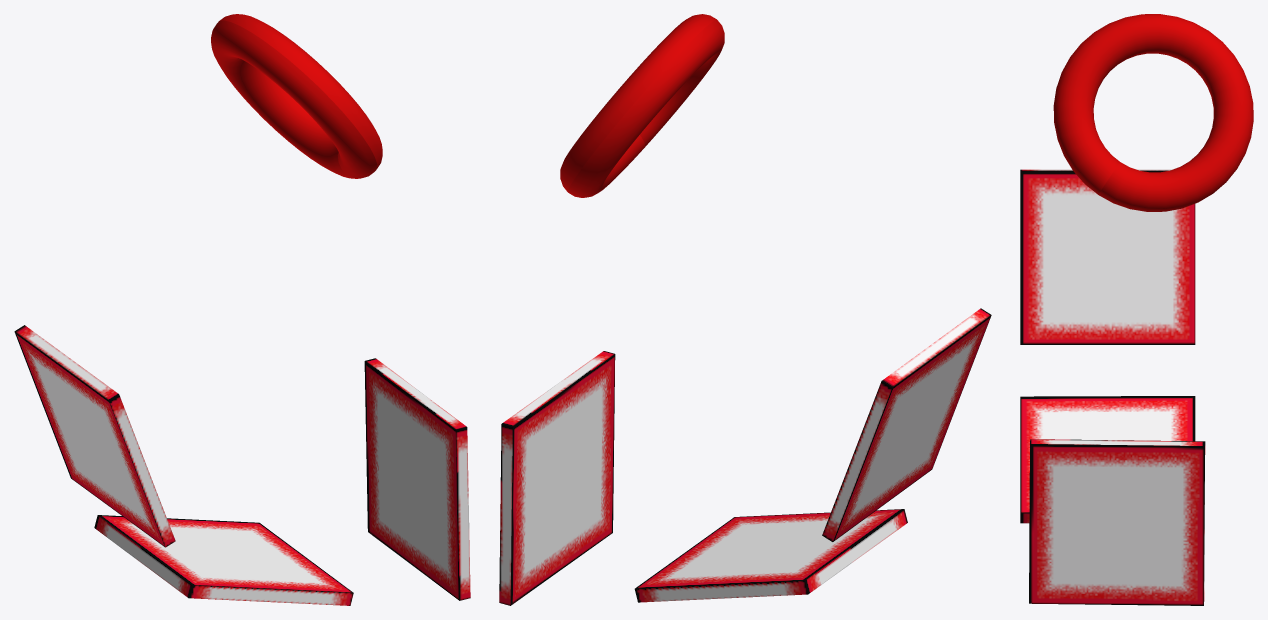
File: bouncelevel3panels.fbx
3 views of the same model, side by side, from view 1: azimuth 30°, elevation 25°; view 2: azimuth 150°, elevation 25°; view 3: azimuth 270°, elevation 25° (orthographic). The views are drawn at different scales.
Visible parts, largest first — view 1: Cube2; view 2: Cube2; view 3: Cube2.
Boxes of the visible parts, box(x1,y1,x2,y2) form: Cube2: box(14, 14, 470, 605); Cube2: box(499, 14, 991, 605); Cube2: box(1020, 14, 1253, 605).
Size of the model in its own units: 676 by 988 by 400.
1 material, 1 textured.
